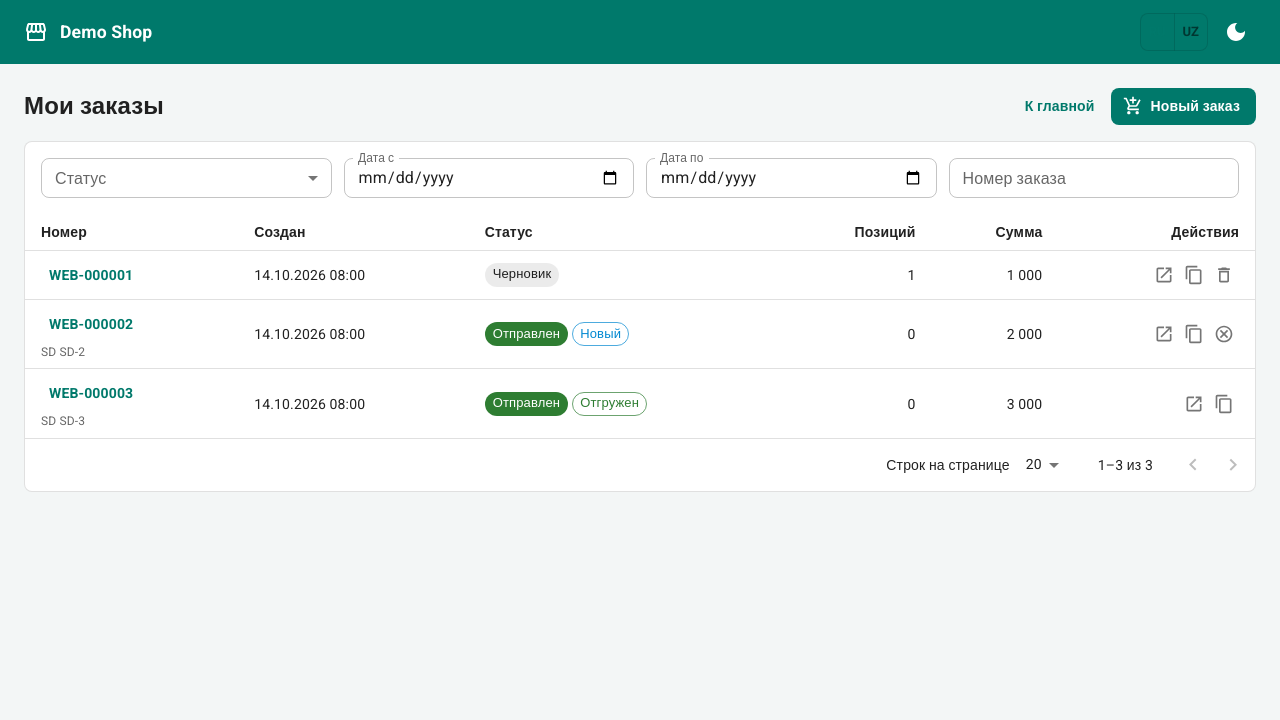
Test case: shop orders list › 202 on cancel / delete is reported as pending, not as done
Click the button named "Отменить заказ" at (1224, 334), box [1209,319,1239,349]
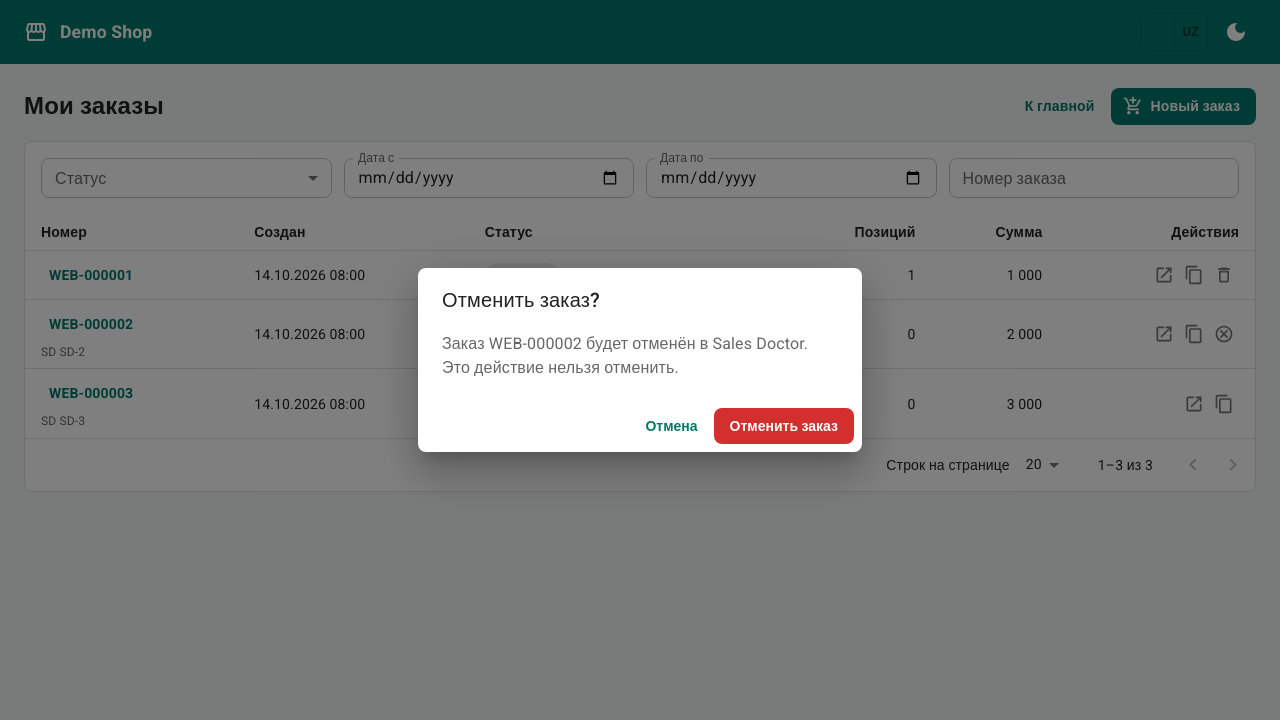
Click the button "Отменить заказ" at (784, 426), box [714,408,854,444]
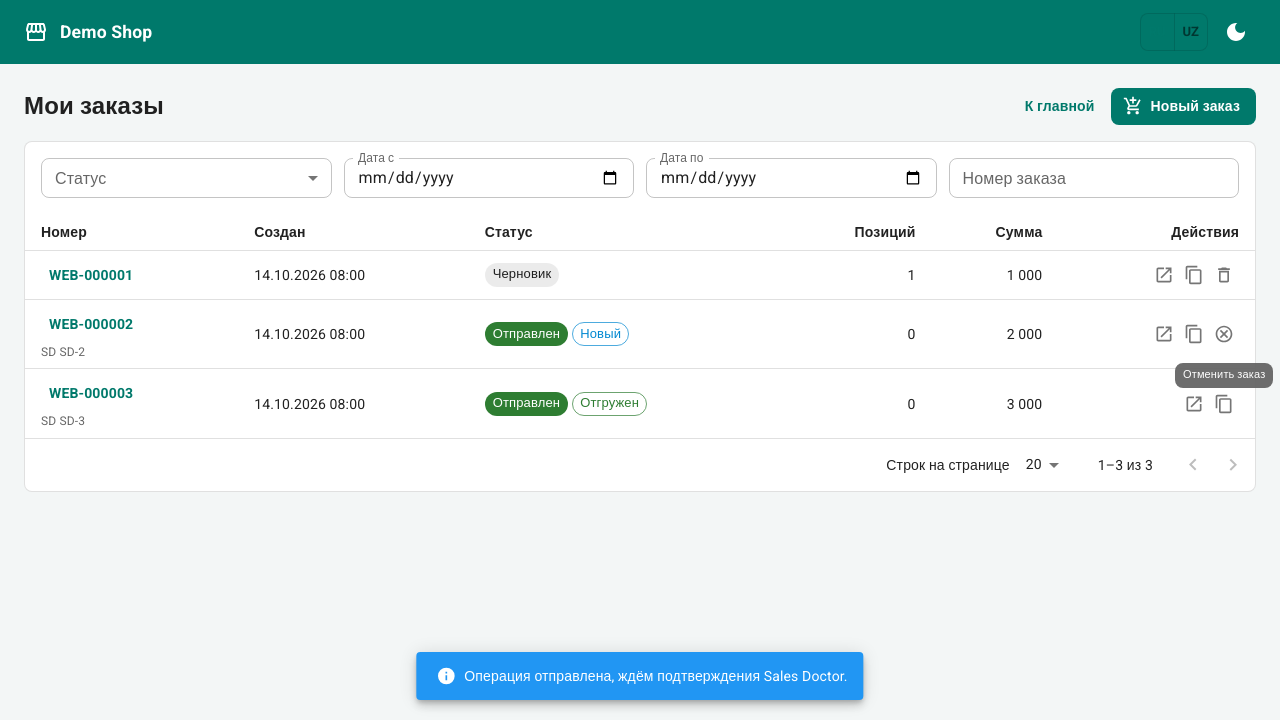
Expected: the text "Операция отправлена, ждём подтверждения Sales Doctor." is shown, [436,666,848,686]
